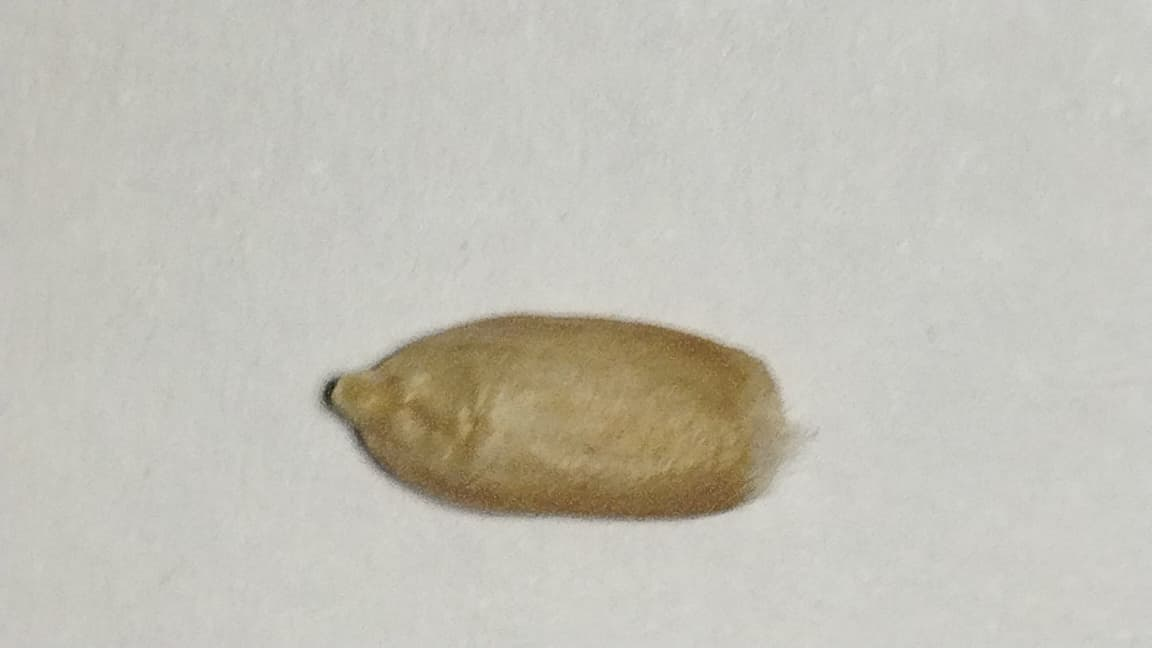healthy: (330, 315, 790, 512)
